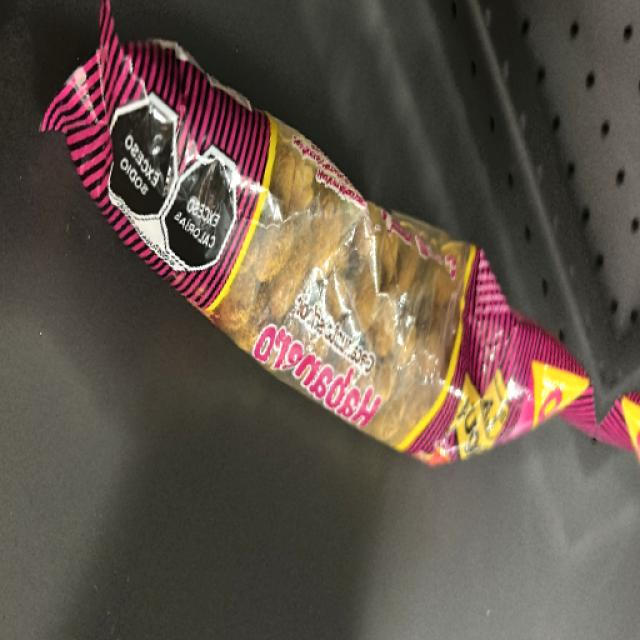bitzHabanero: (110, 61, 564, 470)
